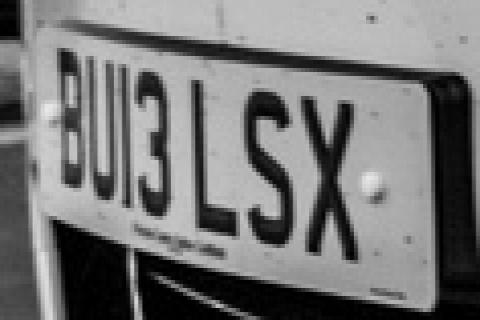LicensePlate: (14, 11, 454, 315)
